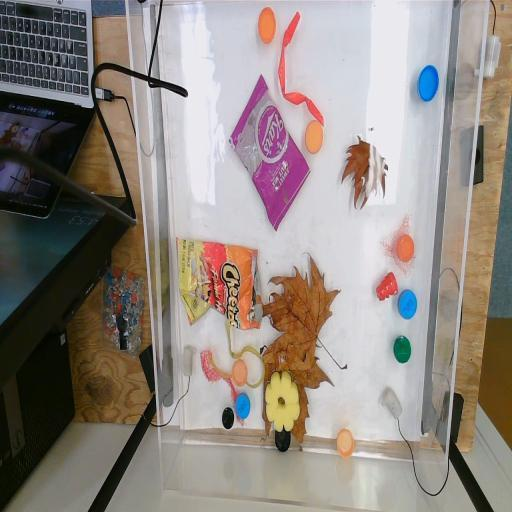Bottle Cap: (416, 63, 440, 104), (396, 289, 418, 321), (258, 6, 276, 44), (304, 120, 324, 154), (392, 334, 412, 365), (396, 234, 415, 264), (336, 428, 354, 459), (274, 428, 292, 454), (235, 392, 251, 420), (232, 358, 248, 386), (222, 406, 234, 430)
Cone Cap: (374, 270, 398, 302)
Leaf: (262, 250, 348, 372), (258, 333, 335, 451), (340, 124, 389, 210)
Netting: (200, 346, 247, 426), (378, 210, 416, 280)
Plastic Bag: (227, 74, 312, 234), (176, 235, 264, 331)
Plastic Strand: (278, 8, 325, 126), (208, 318, 266, 388)
Sponge: (264, 370, 301, 436)
